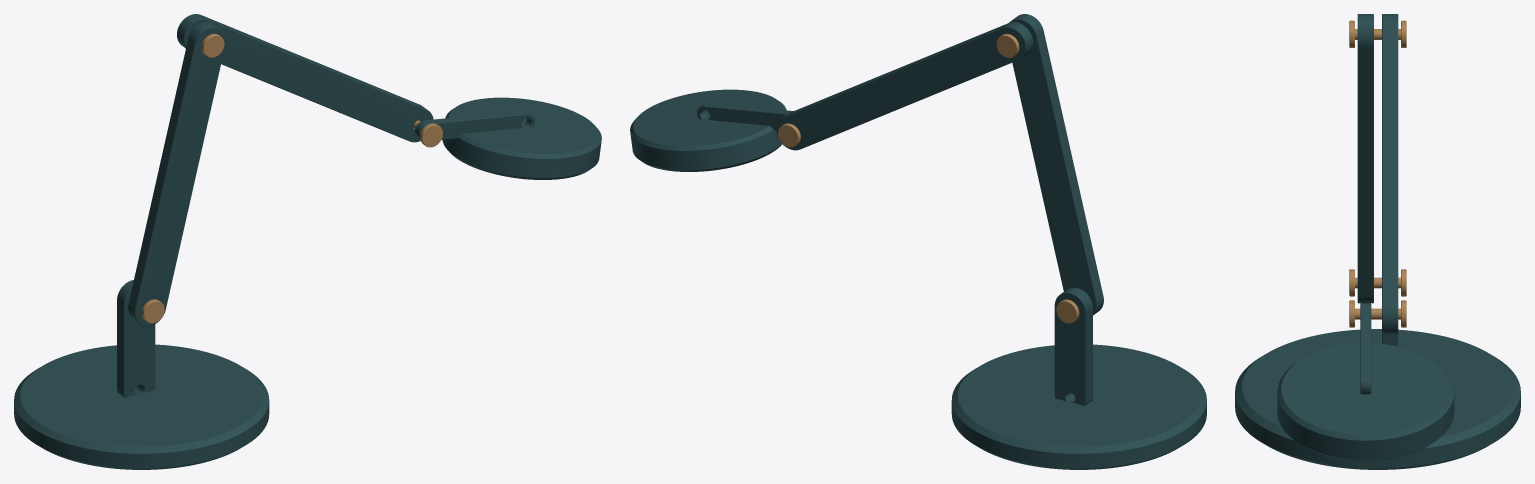
The model's file is hinge.glb.
The picture shows the model from 3 angles, left to right: view 1: azimuth 30°, elevation 25°; view 2: azimuth 150°, elevation 25°; view 3: azimuth 270°, elevation 25°; orthographic projection. The views are drawn at different scales.
Parts seen in each view (by area): view 1: Base body, Lower arm, Head housing, Upper arm, Fixed upright, Head neck; view 2: Base body, Lower arm, Upper arm, Head housing, Fixed upright, Head neck; view 3: Head housing, Base body, Upper arm, Lower arm, Head neck.
Part boxes in pixels (x1=…): Base body: x1=14, y1=344, x2=269, y2=469; Lower arm: x1=128, y1=22, x2=225, y2=326; Head housing: x1=442, y1=97, x2=601, y2=179; Upper arm: x1=177, y1=14, x2=433, y2=142; Fixed upright: x1=117, y1=280, x2=155, y2=397; Head neck: x1=415, y1=111, x2=534, y2=139; Base body: x1=951, y1=344, x2=1206, y2=469; Lower arm: x1=1009, y1=14, x2=1103, y2=315; Upper arm: x1=776, y1=22, x2=1033, y2=150; Head housing: x1=630, y1=89, x2=786, y2=171; Fixed upright: x1=1054, y1=287, x2=1092, y2=405; Head neck: x1=697, y1=102, x2=793, y2=130; Head housing: x1=1277, y1=343, x2=1454, y2=461; Base body: x1=1235, y1=329, x2=1520, y2=469; Upper arm: x1=1382, y1=14, x2=1398, y2=334; Lower arm: x1=1357, y1=14, x2=1373, y2=303; Head neck: x1=1360, y1=303, x2=1371, y2=394.
Size of the model in its own units: 0.5271 by 0.353 by 0.21.
